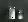person: (7, 7, 15, 19), (18, 11, 25, 19)
